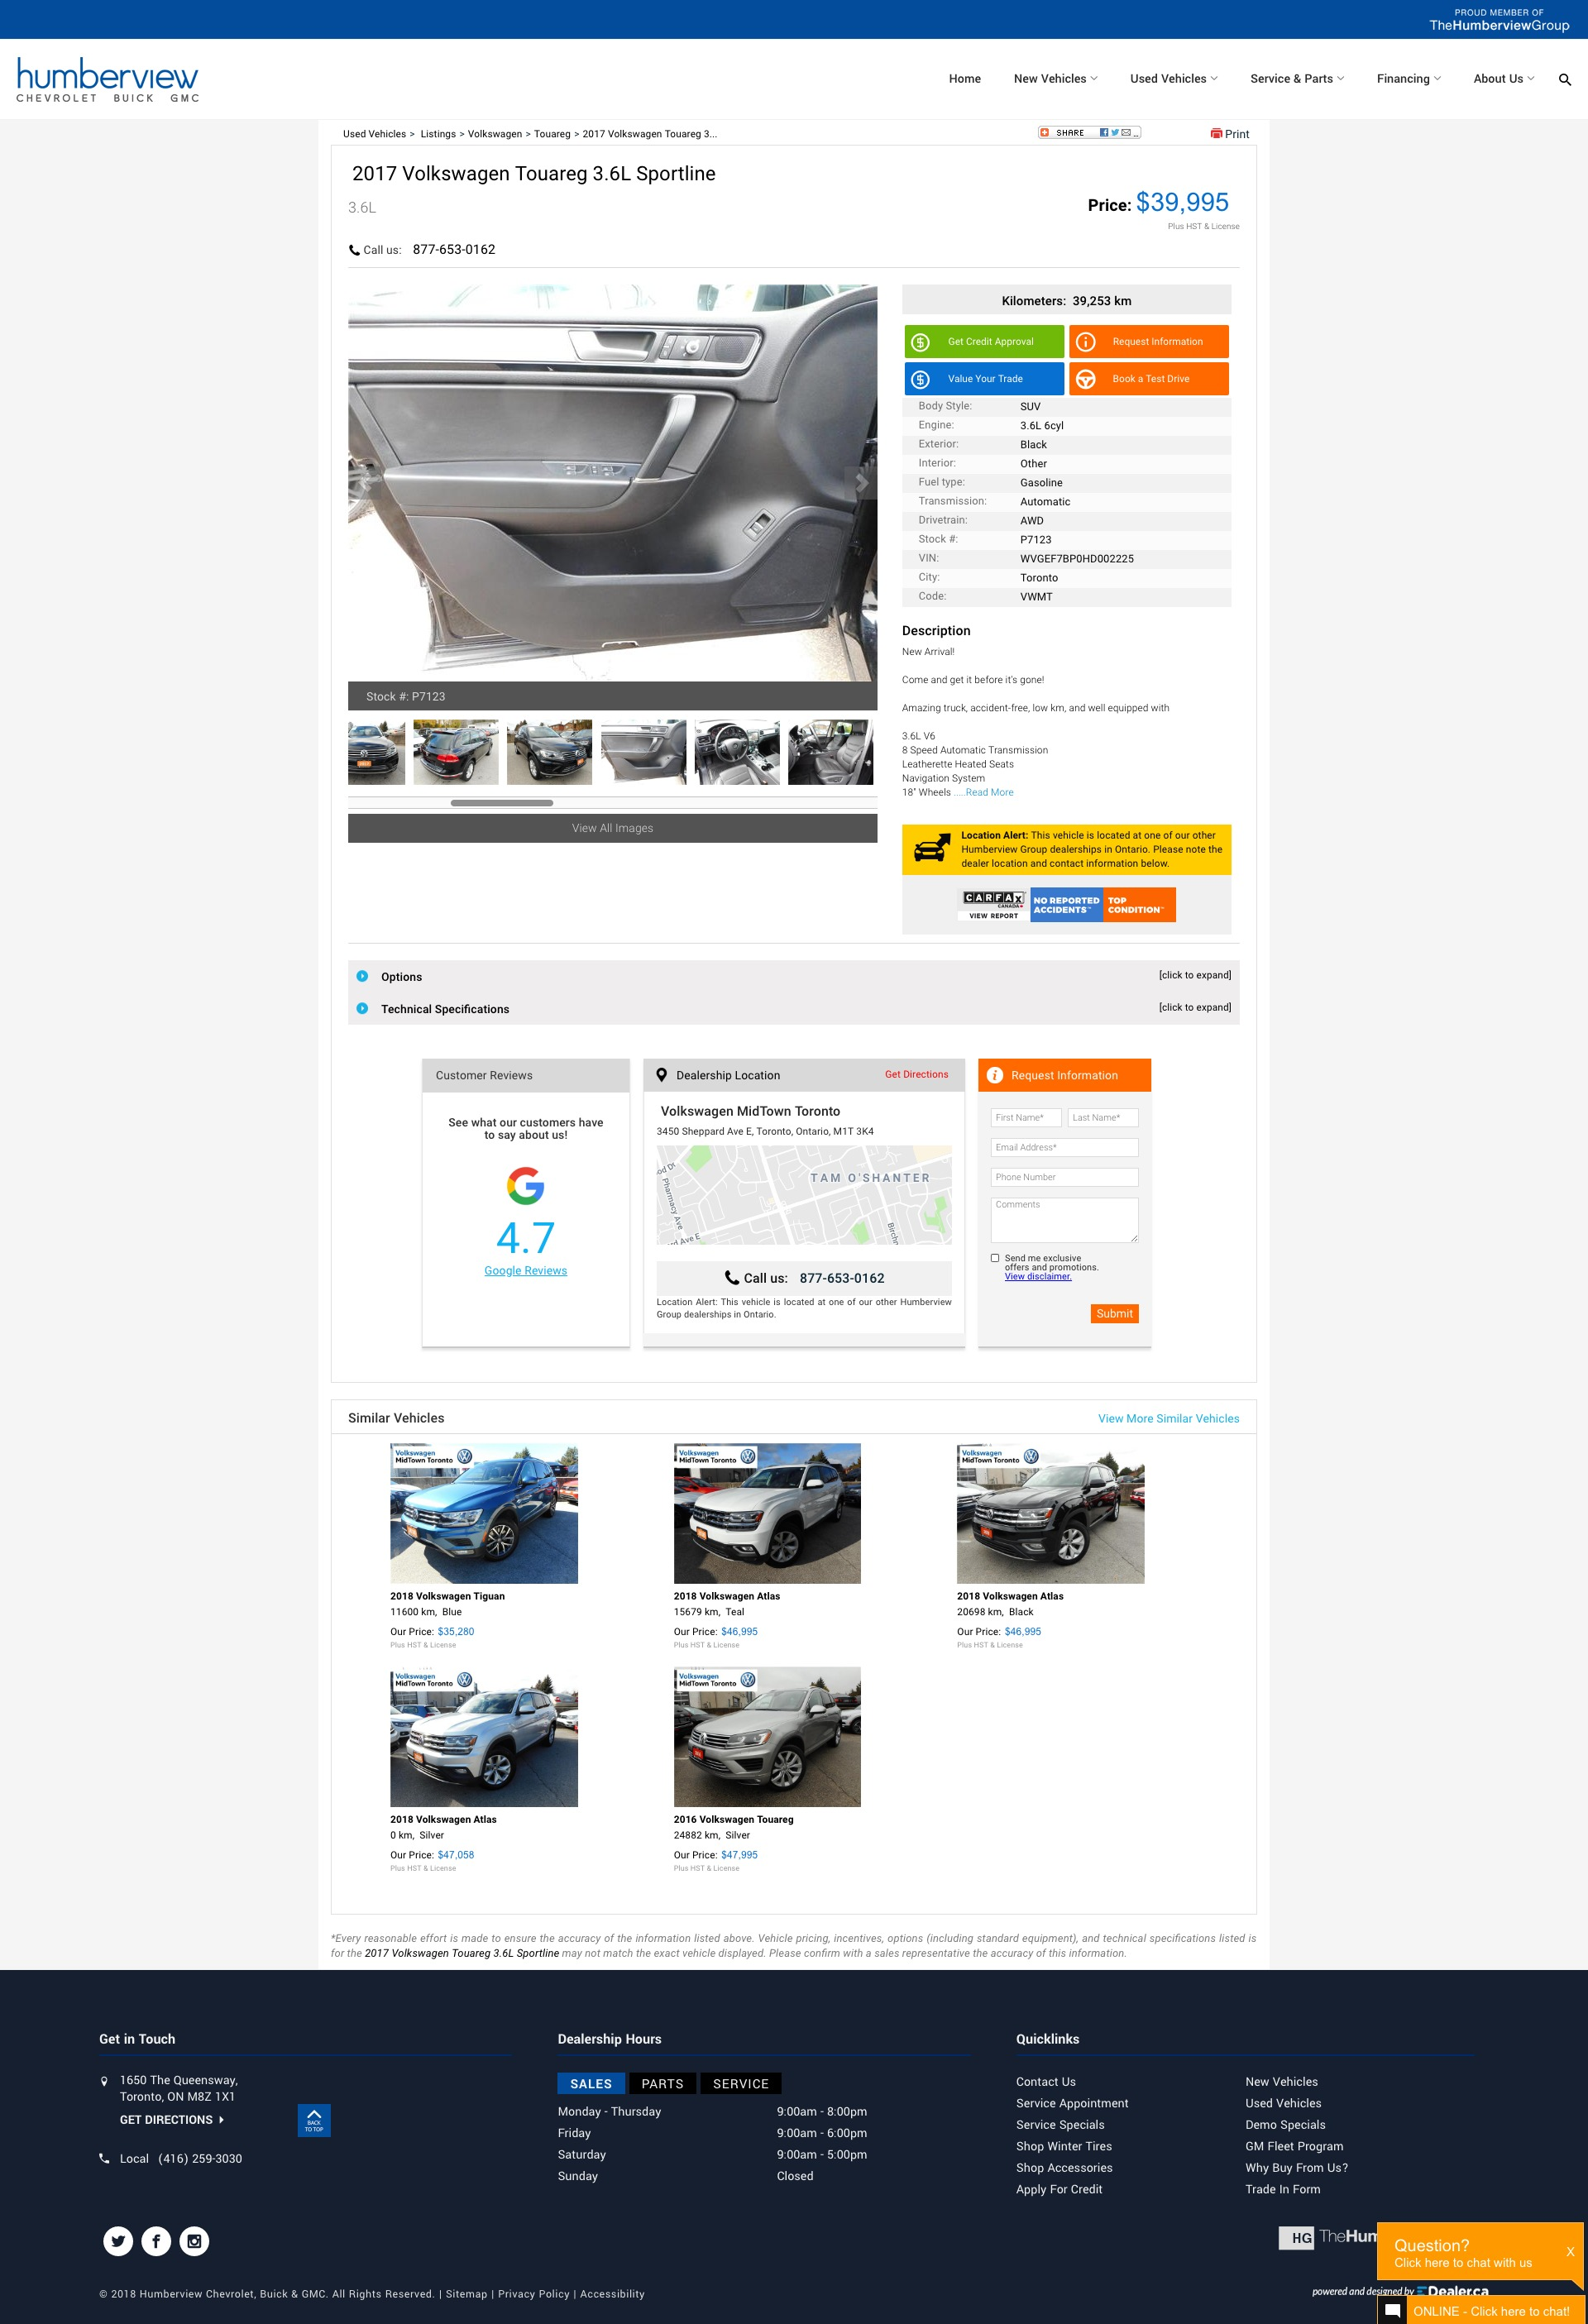car: (855, 473, 871, 494)
